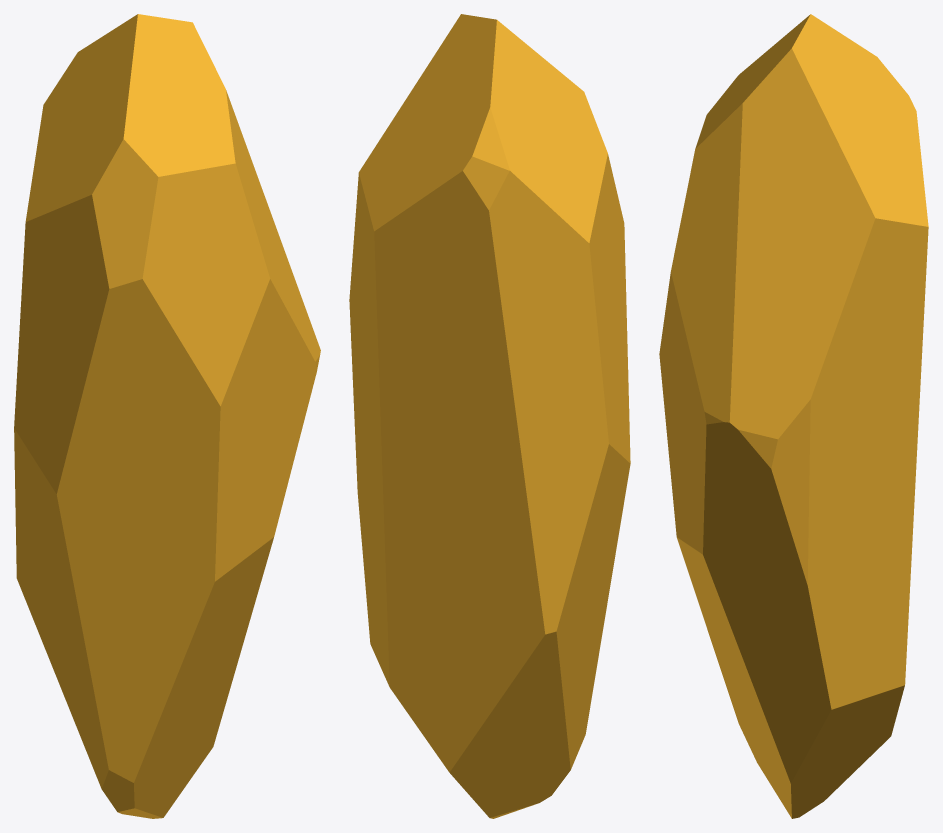
The model's file is Crystal_05.glb.
The picture shows the model from 3 angles, left to right: view 1: azimuth 30°, elevation 25°; view 2: azimuth 150°, elevation 25°; view 3: azimuth 270°, elevation 25°; orthographic projection.
Visible parts, largest first — view 1: Crystal_05; view 2: Crystal_05; view 3: Crystal_05.
Part boxes in pixels (x1,y1,x2,y2): Crystal_05: (14, 14, 320, 818); Crystal_05: (349, 14, 630, 818); Crystal_05: (659, 14, 928, 818).
Size of what is drawn, in the model's own units: 0.4814 by 1.36 by 0.4145.
1 material, 1 textured.
